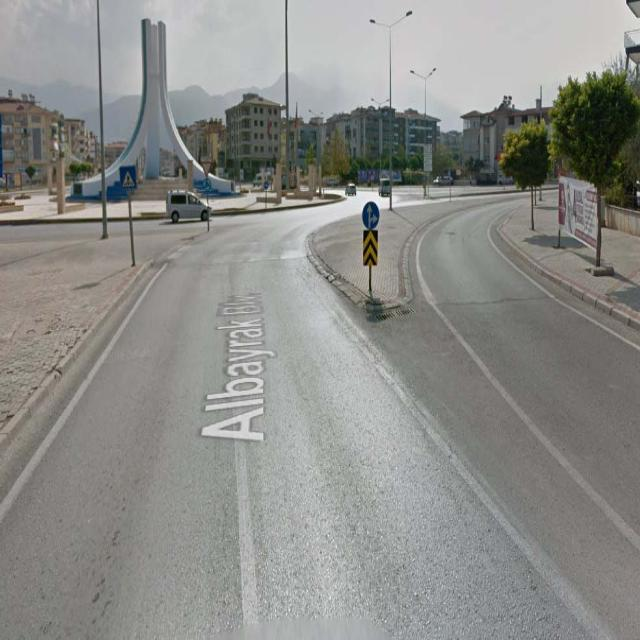ilerisag: (363, 200, 380, 230)
